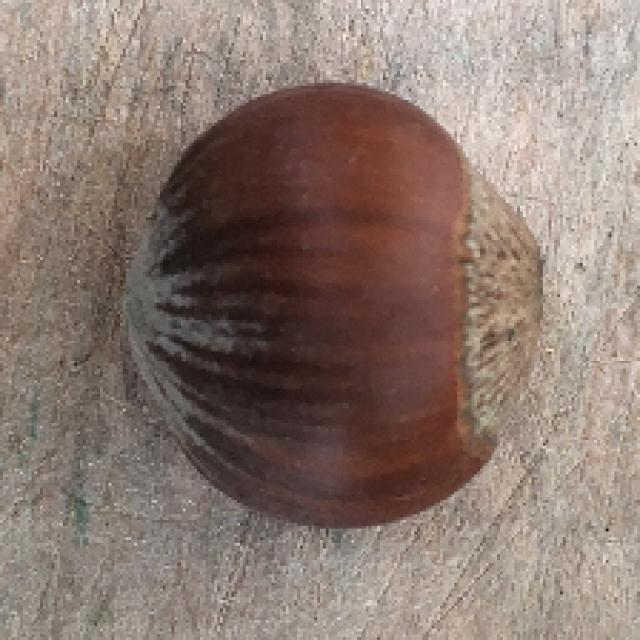damagedHazelnut: (121, 58, 548, 525)
